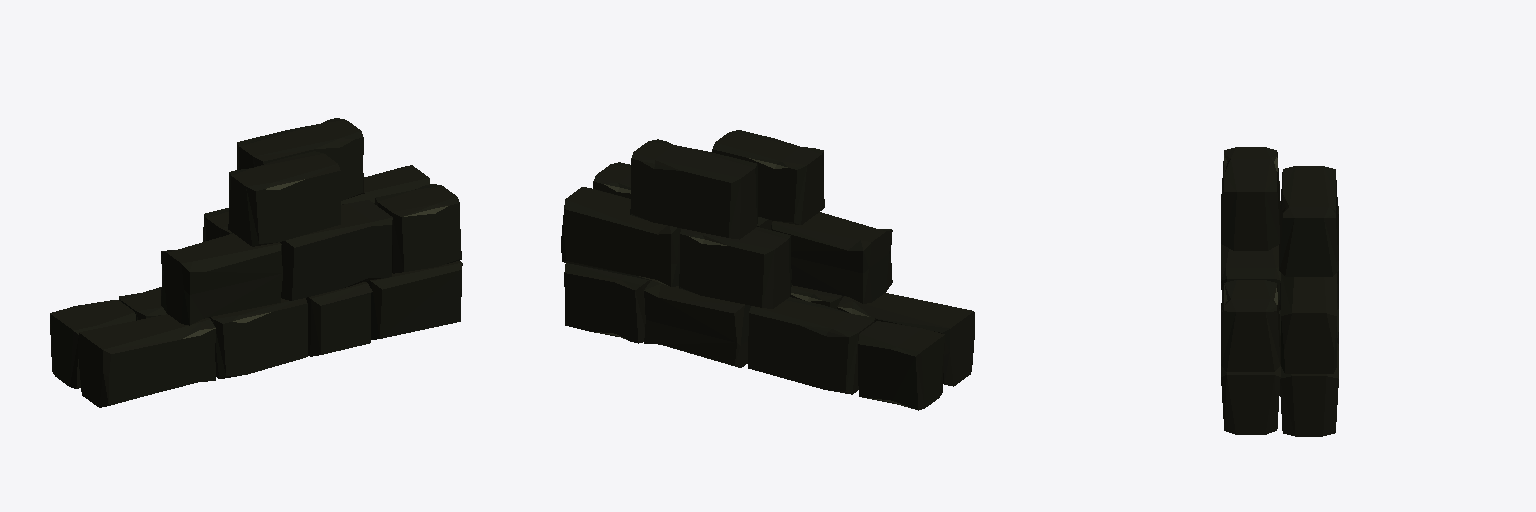
Rendered from Wall_Double_Broken.obj.
3 renders of one model, left to right at view 1: azimuth 30°, elevation 25°; view 2: azimuth 150°, elevation 25°; view 3: azimuth 270°, elevation 25°, orthographic.
Parts seen in each view (by area): view 1: Wall_Double_Broken; view 2: Wall_Double_Broken; view 3: Wall_Double_Broken.
Part boxes in pixels (x1,y1,x2,y2): Wall_Double_Broken: (50,118,462,407); Wall_Double_Broken: (561,130,974,410); Wall_Double_Broken: (1221,147,1338,436).
Size of the model in its own units: 1.99 by 0.9868 by 0.5656.